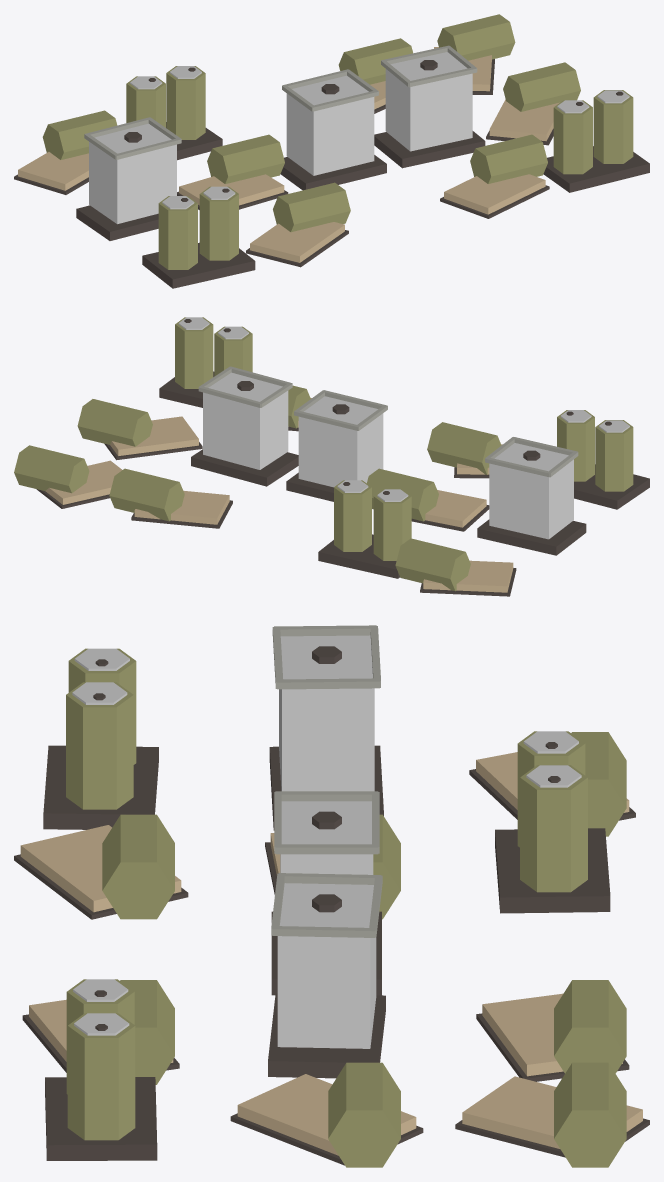
The model's file is SM_AcopioCombustible_v3_Saqueado_LOD1.fbx.
3 views of the same model, one above another, from view 1: azimuth 30°, elevation 25°; view 2: azimuth 150°, elevation 25°; view 3: azimuth 270°, elevation 25° (orthographic). The views are drawn at different scales.
Visible parts, largest first — view 1: SM_acopio_carga_v8_LOD1; view 2: SM_acopio_carga_v8_LOD1; view 3: SM_acopio_carga_v8_LOD1.
Part boxes in pixels (x1,y1,x2,y2): SM_acopio_carga_v8_LOD1: (14,14,649,288); SM_acopio_carga_v8_LOD1: (14,317,649,596); SM_acopio_carga_v8_LOD1: (14,625,649,1167).
Size of the model in its own units: 7.85 by 1.27 by 5.07.
